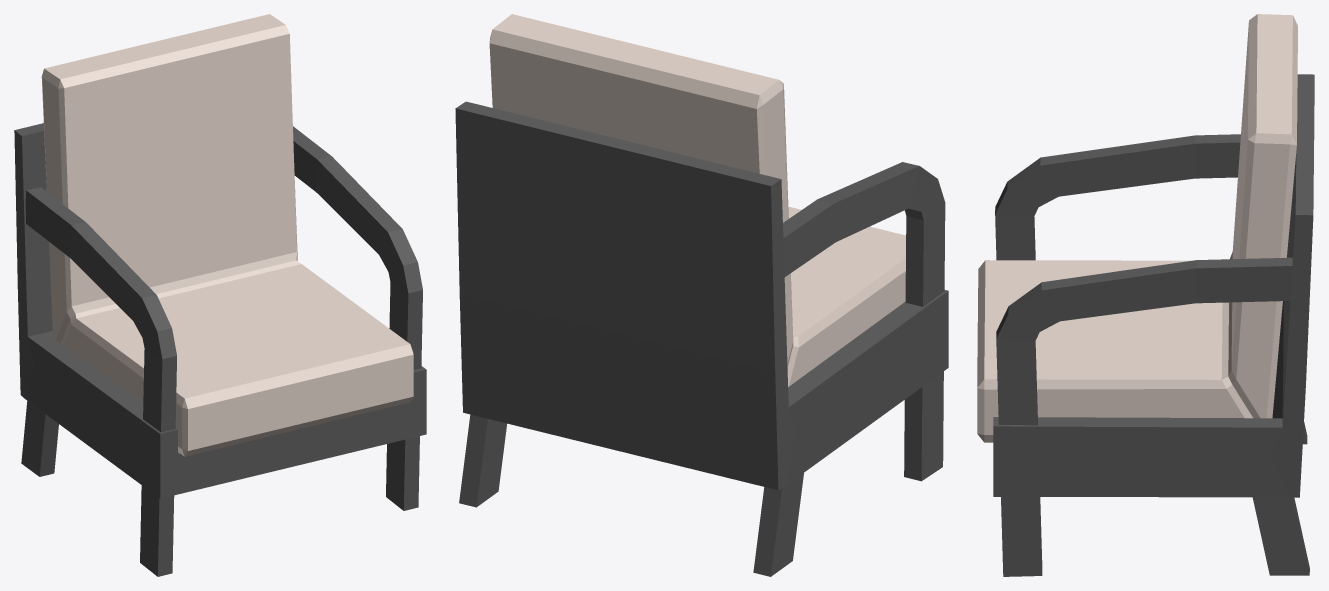
Rendered from Chair_11.fbx.
3 renders of one model, left to right at view 1: azimuth 30°, elevation 25°; view 2: azimuth 150°, elevation 25°; view 3: azimuth 270°, elevation 25°, orthographic. The views are drawn at different scales.
Parts seen in each view (by area): view 1: Chair_11; view 2: Chair_11; view 3: Chair_11.
Part boxes in pixels (x1,y1,x2,y2): Chair_11: (14,14,426,576); Chair_11: (455,14,948,576); Chair_11: (977,14,1314,576).
Bounding box in the file's own units: 89.55 × 90.2 × 130.
